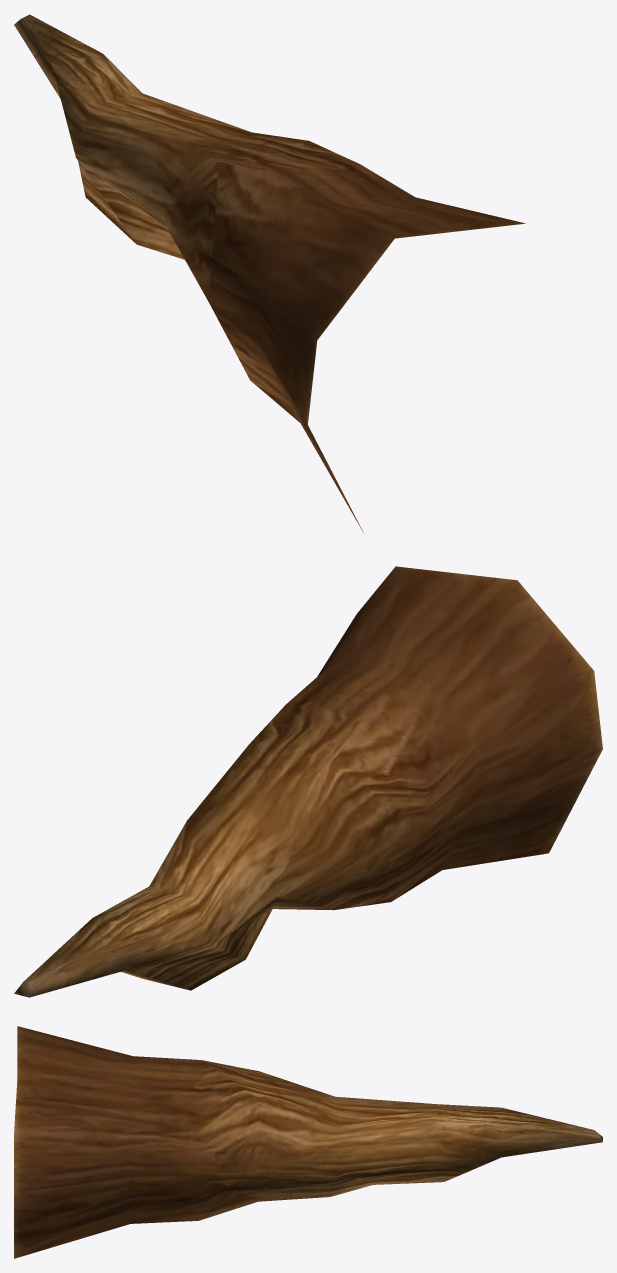
3 views of the same model, one above another, from view 1: azimuth 30°, elevation 25°; view 2: azimuth 150°, elevation 25°; view 3: azimuth 270°, elevation 25° (orthographic). The views are drawn at different scales.
Visible parts, largest first — view 1: model_Object09; view 2: model_Object09; view 3: model_Object09.
Part boxes in pixels (x1,y1,x2,y2): model_Object09: (14,14,525,532); model_Object09: (14,566,602,997); model_Object09: (14,1026,602,1258).
Bounding box in the file's own units: 0.9651 × 0.9041 × 2.59.
1 material, 1 textured.
